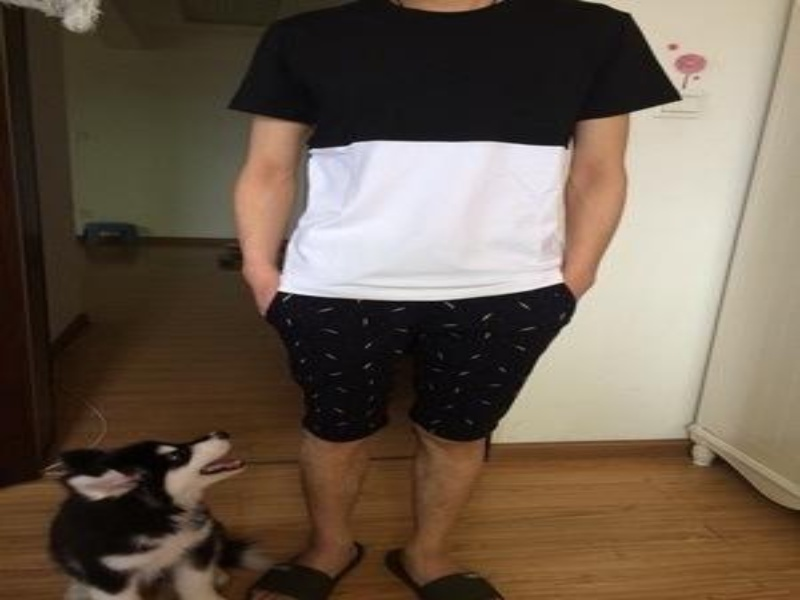short_sleeved_shirt: (229, 2, 691, 306)
shorts: (259, 252, 589, 456)
